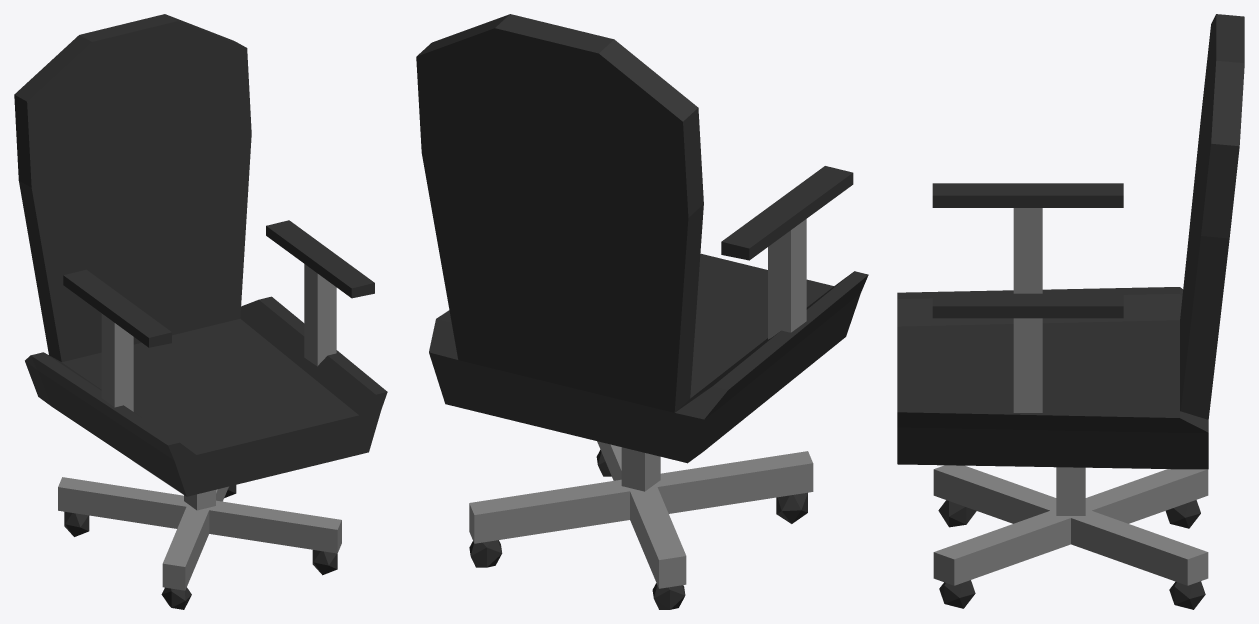
The model's file is Chair_Dark.fbx.
The picture shows the model from 3 angles, left to right: view 1: azimuth 30°, elevation 25°; view 2: azimuth 150°, elevation 25°; view 3: azimuth 270°, elevation 25°; orthographic projection. The views are drawn at different scales.
Parts seen in each view (by area): view 1: Chair_Dark; view 2: Chair_Dark; view 3: Chair_Dark.
Part boxes in pixels (box(x1,y1,x2,y2)): Chair_Dark: box(14, 14, 387, 609); Chair_Dark: box(416, 14, 868, 609); Chair_Dark: box(897, 14, 1244, 609).
Bounding box in the file's own units: 52.6 × 98.72 × 58.86.
Materials: 1 (1 with a texture image).
